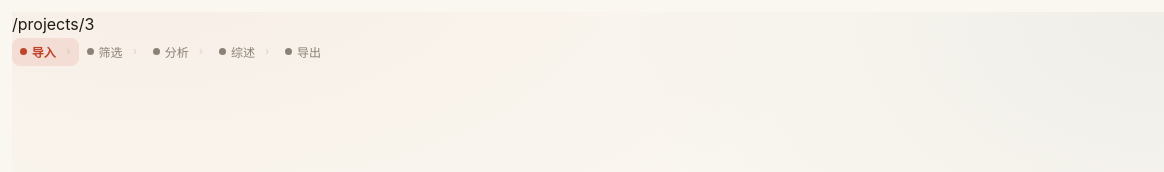
Test: StageBar 可交互工作流向导 › 点「综述」跳 AI 综述
What coordinates should you click on to do the following:
click the button with aria-label "第 4 步 综述"
I would click on:
 (244, 52)
Its box is [211,38,277,66].
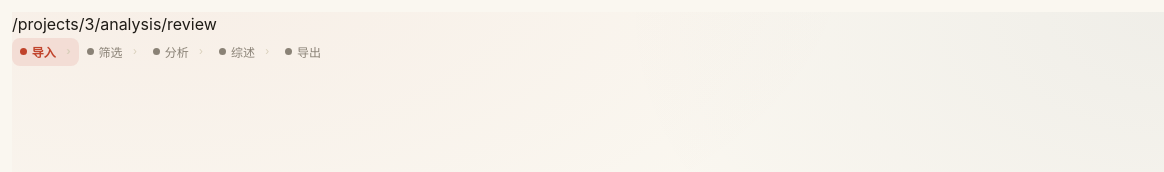
Now the text with test id "location" reads "/projects/3/analysis/review", box [12,14,217,34]
